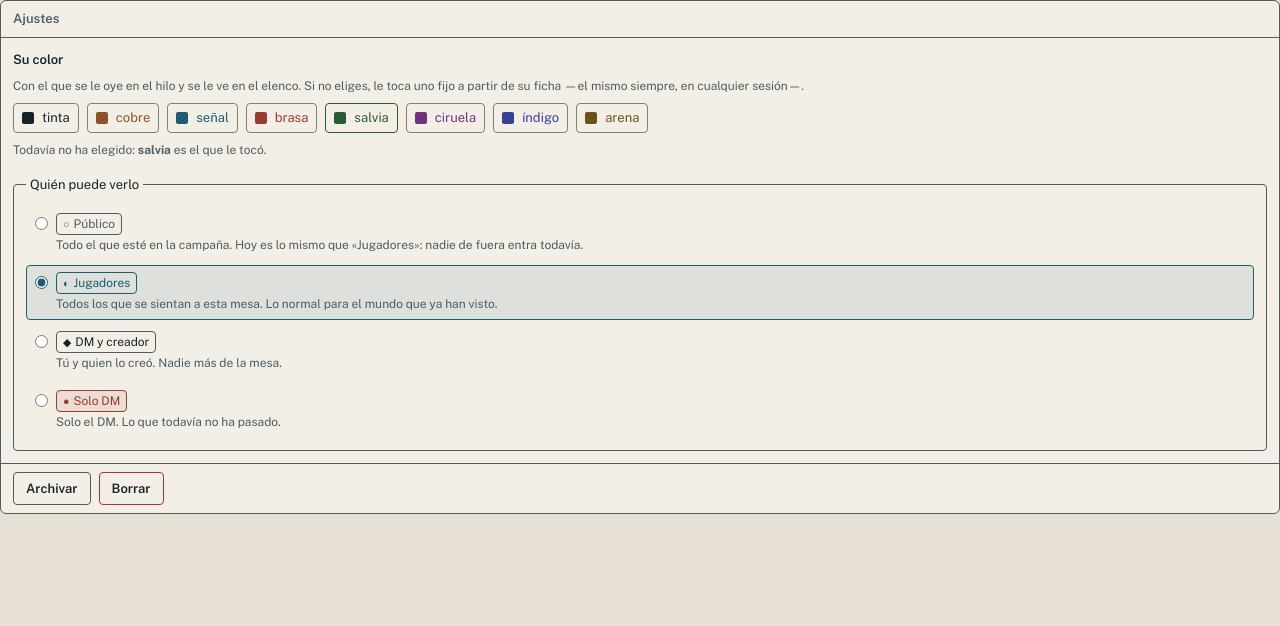
Test: Archivar — el gesto fácil, en la ficha del personaje › borrar cuesta más: nombra archivar como la salida barata y sigue avisando de lo definitivo
Click the button "Borrar". click: (131, 488)
box: [98,472,164,505]
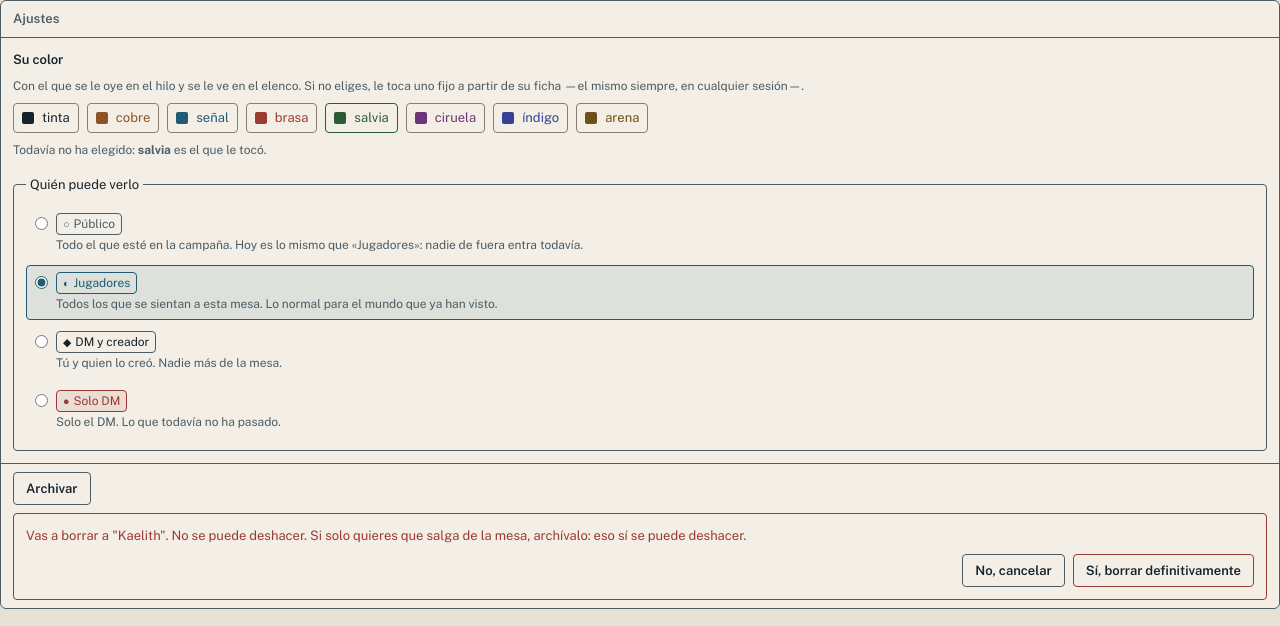
Expected: the text "archívalo" is shown, [26,528,746,543]
Expected: the button "Sí, borrar definitivamente" is shown, [1073,554,1254,587]
